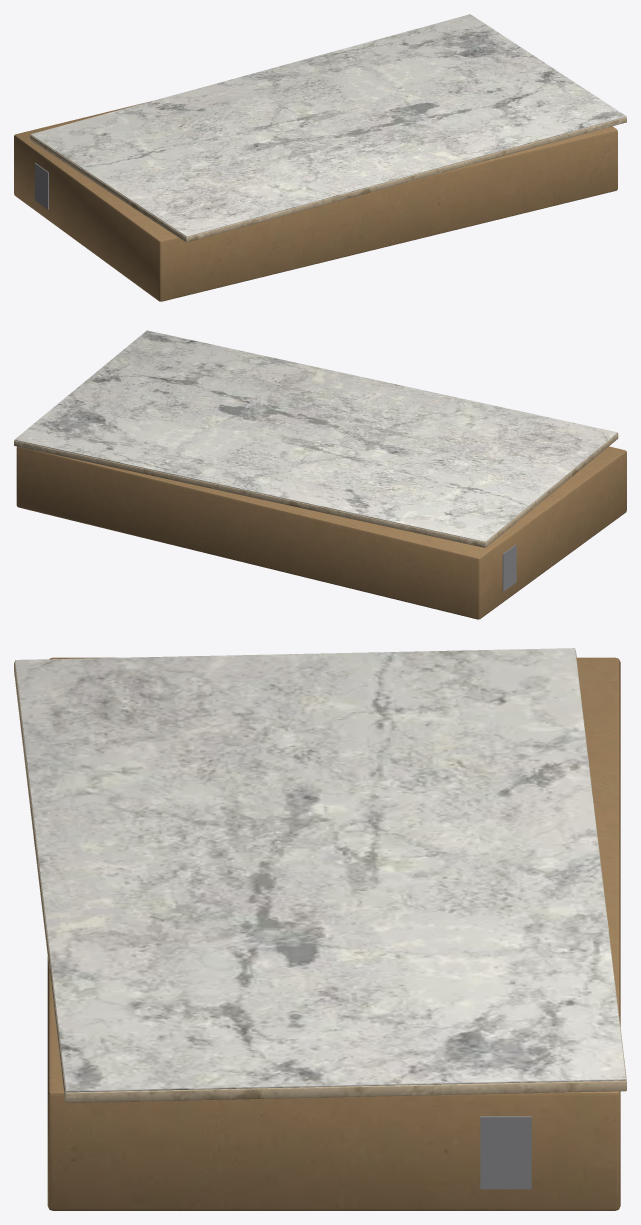
The model's file is REV-CER-003.glb.
3 views of the same model, one above another, from view 1: azimuth 30°, elevation 25°; view 2: azimuth 150°, elevation 25°; view 3: azimuth 270°, elevation 25° (orthographic). The views are drawn at different scales.
Parts seen in each view (by area): view 1: REV-CER-003_face, REV-CER-003_caixa, REV-CER-003_corpo, REV-CER-003_faixa; view 2: REV-CER-003_face, REV-CER-003_caixa, REV-CER-003_corpo, REV-CER-003_faixa; view 3: REV-CER-003_face, REV-CER-003_caixa, REV-CER-003_corpo, REV-CER-003_faixa.
Part boxes in pixels (x1,y1,x2,y2): REV-CER-003_face: [30, 14, 626, 236]; REV-CER-003_caixa: [14, 101, 617, 301]; REV-CER-003_corpo: [30, 117, 626, 242]; REV-CER-003_faixa: [35, 163, 48, 209]; REV-CER-003_face: [14, 330, 617, 542]; REV-CER-003_caixa: [16, 446, 626, 619]; REV-CER-003_corpo: [14, 433, 618, 547]; REV-CER-003_faixa: [502, 544, 516, 591]; REV-CER-003_face: [15, 648, 625, 1092]; REV-CER-003_caixa: [47, 657, 620, 1210]; REV-CER-003_corpo: [14, 650, 626, 1102]; REV-CER-003_faixa: [480, 1116, 531, 1189].
Size of the model in its own units: 0.6238 by 0.0866 by 0.3595.
6 materials, 4 textured.
